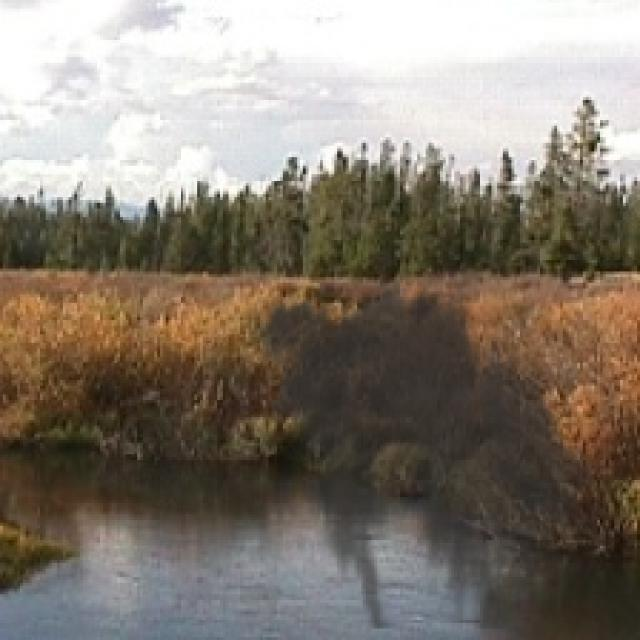Smoke: (243, 266, 603, 628)
